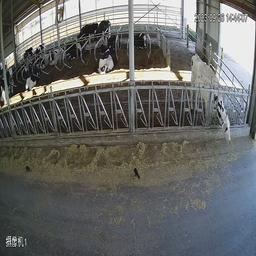cow: (187, 45, 236, 146), (94, 40, 118, 78), (134, 22, 152, 56), (23, 65, 42, 92), (47, 43, 65, 68), (90, 16, 112, 35), (71, 37, 87, 61)
